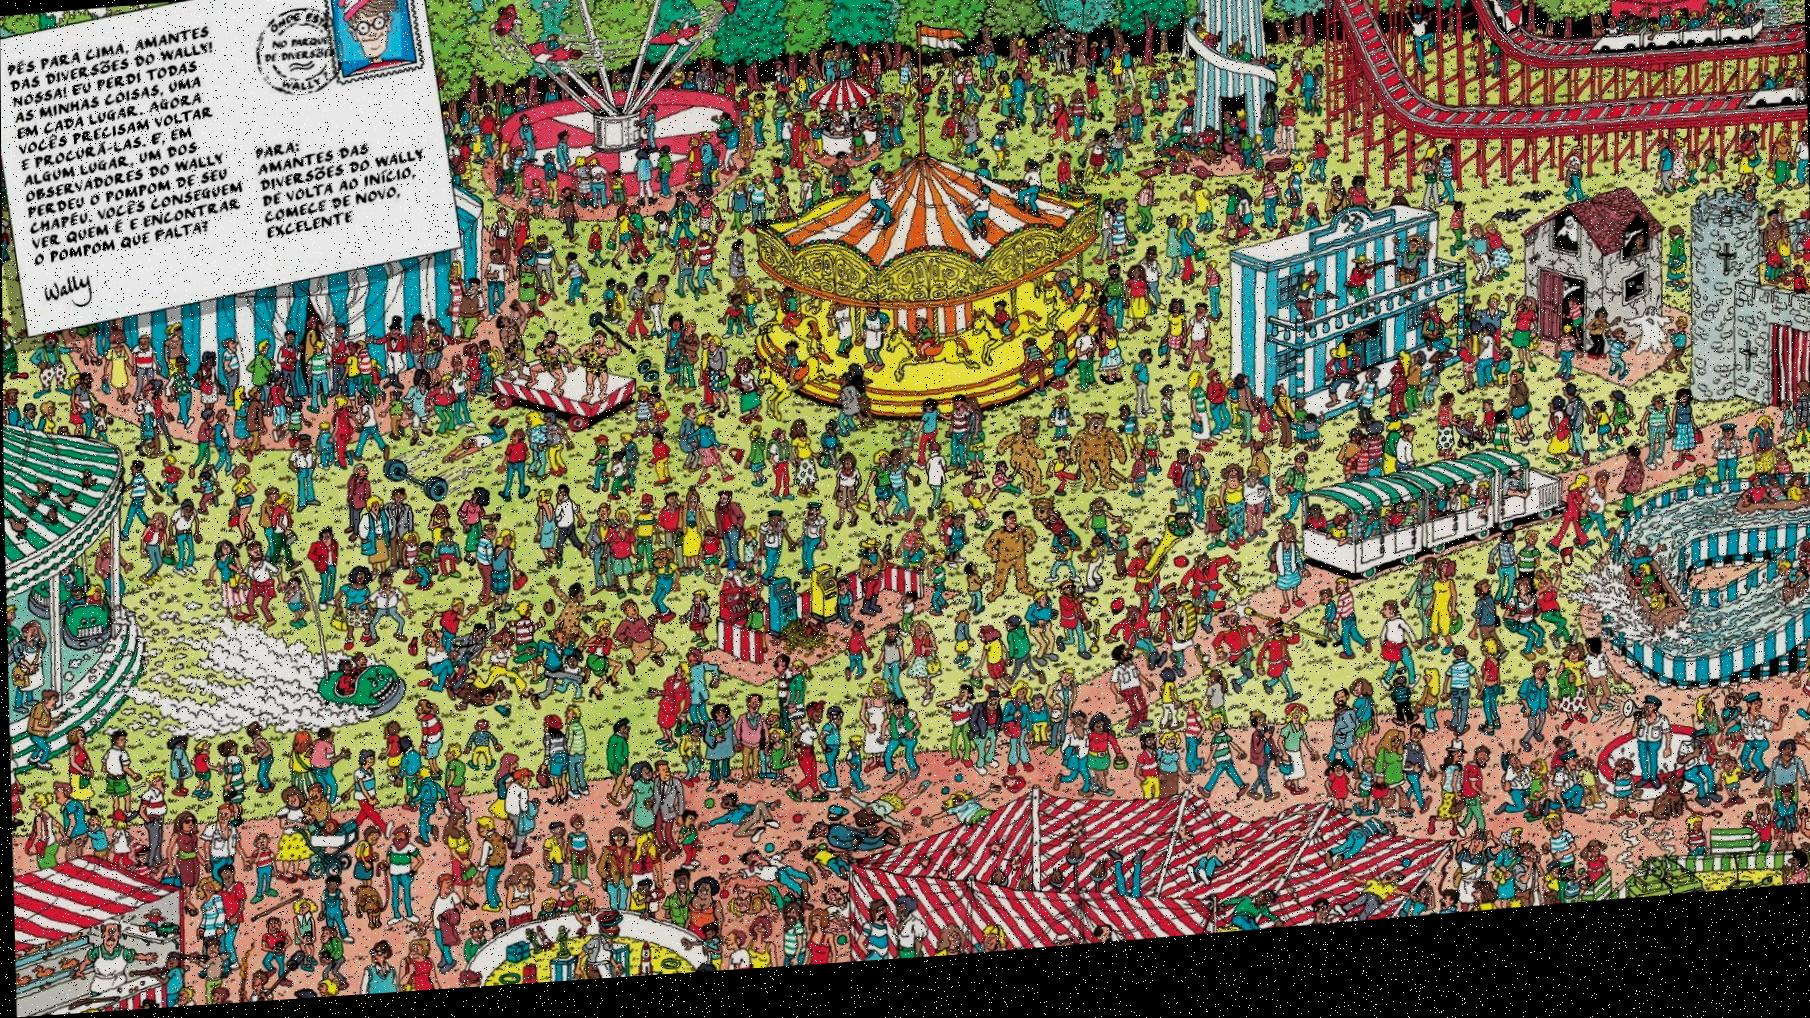waldo: (338, 0, 402, 66)
